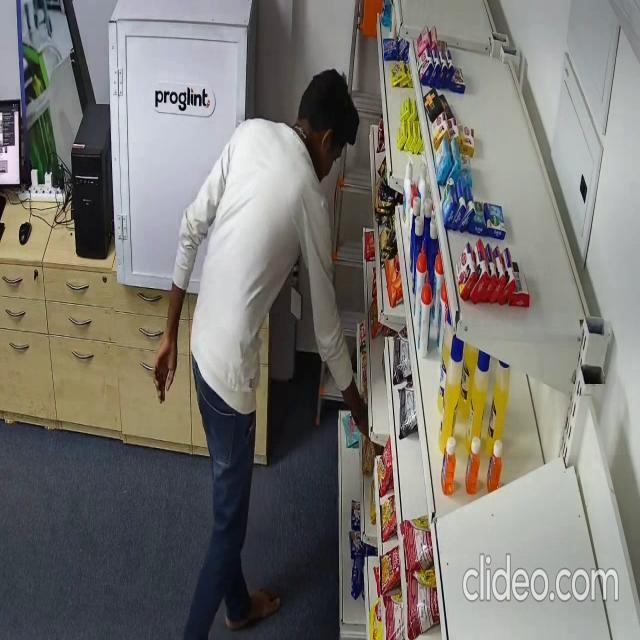normal: (151, 66, 370, 640)
